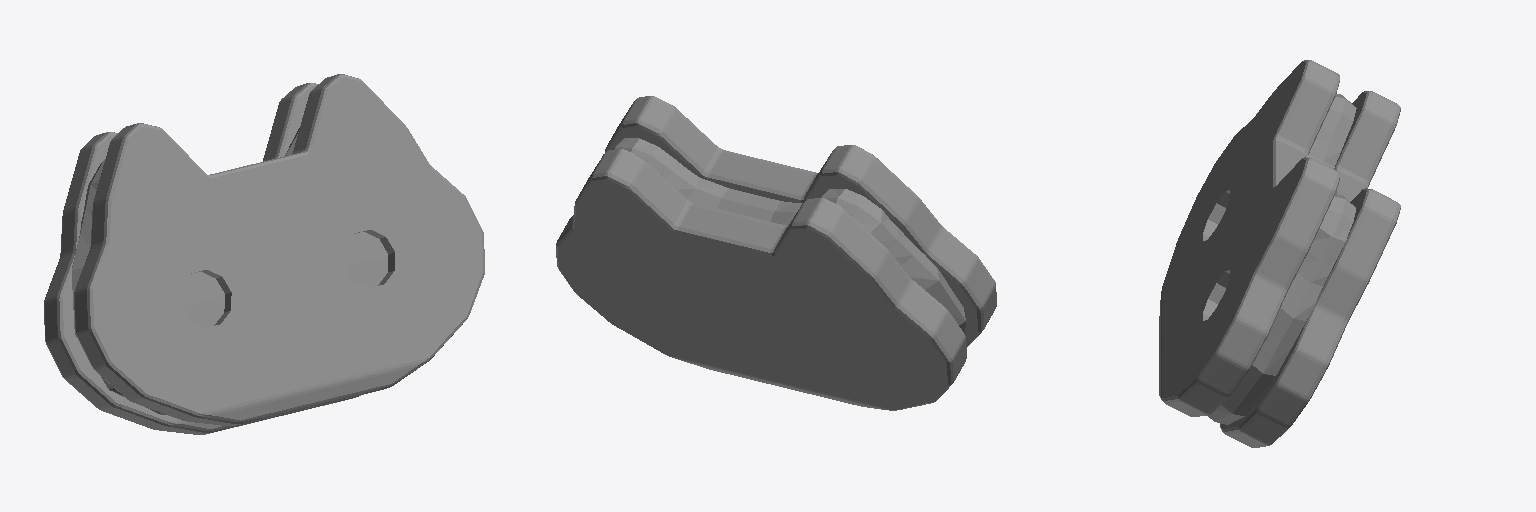
The model's file is GatoGalleta.obj.
3 renders of one model, left to right at view 1: azimuth 30°, elevation 25°; view 2: azimuth 150°, elevation 25°; view 3: azimuth 270°, elevation 25°, orthographic.
Visible parts, largest first — view 1: Top, Bottom, Filling; view 2: Bottom, Top, Filling; view 3: Top, Bottom, Filling.
Boxes of the visible parts, <box> form: Top: <box>74,74,484,425</box>; Bottom: <box>44,83,360,434</box>; Filling: <box>72,128,387,415</box>; Bottom: <box>556,149,966,410</box>; Top: <box>605,96,996,347</box>; Filling: <box>603,138,965,333</box>; Top: <box>1159,60,1339,416</box>; Bottom: <box>1220,91,1400,447</box>; Filling: <box>1206,94,1356,424</box>.
Size of the model in its own units: 15.95 by 11.3 by 8.46.